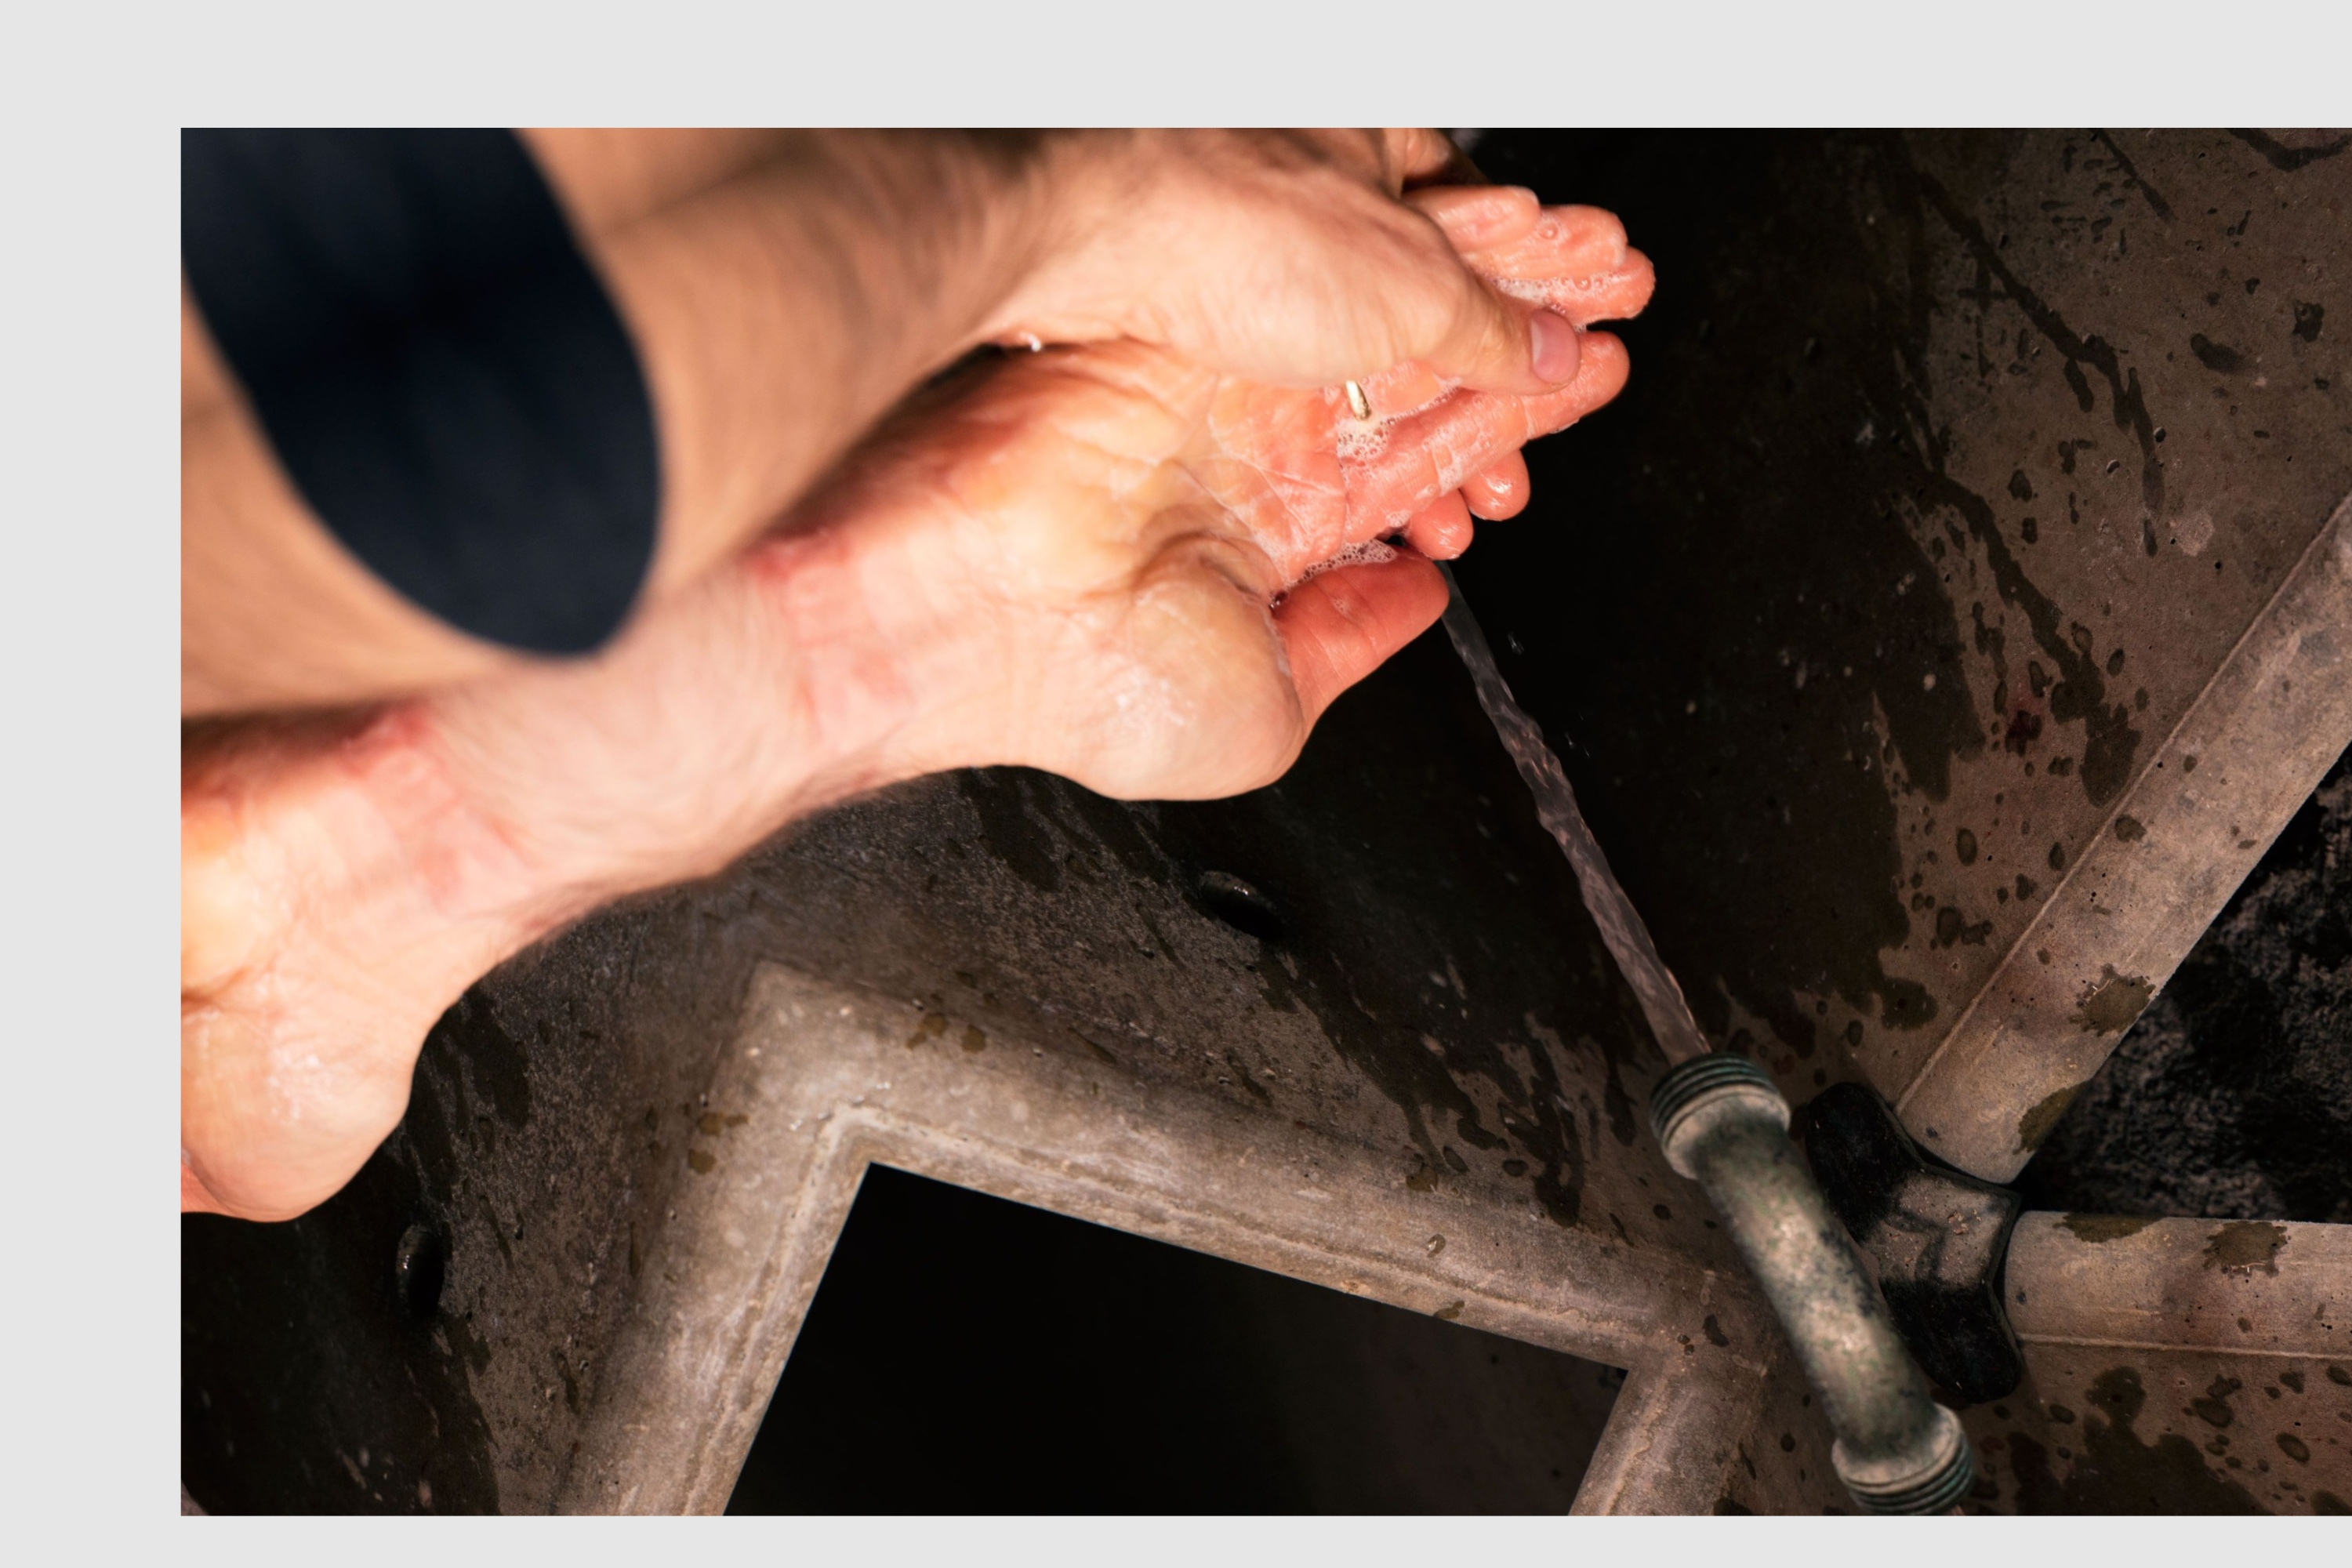washing hand: (593, 0, 2280, 1477)
